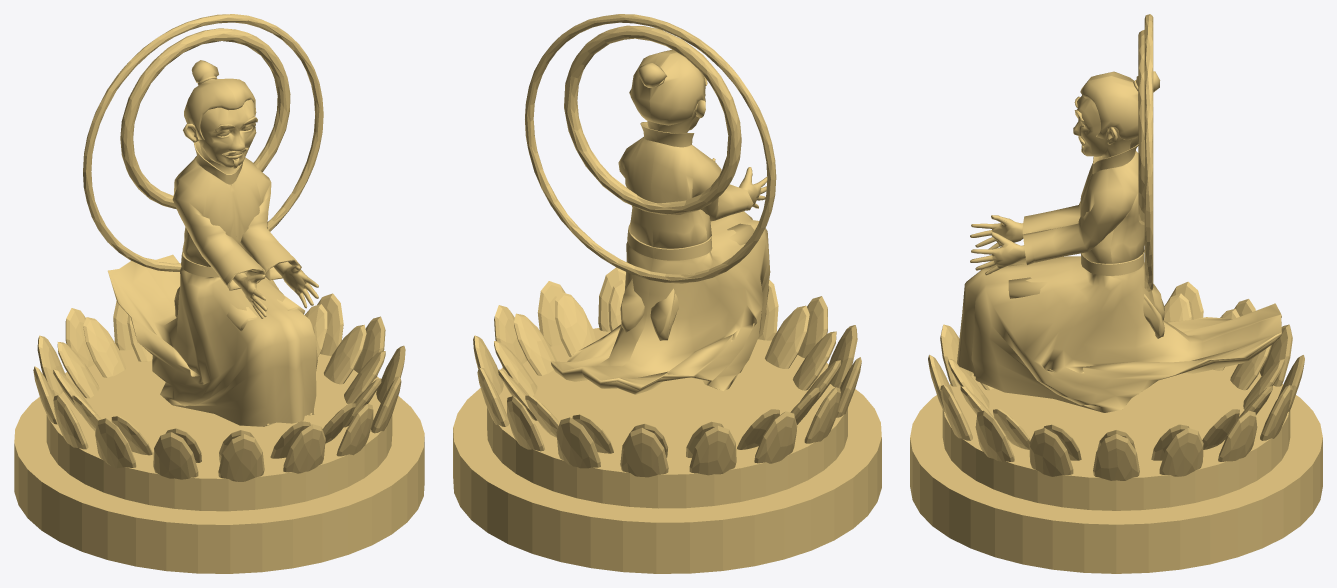
File: buddha.glb
3 renders of one model, left to right at view 1: azimuth 30°, elevation 25°; view 2: azimuth 150°, elevation 25°; view 3: azimuth 270°, elevation 25°, orthographic. The views are drawn at different scales.
Visible parts, largest first — view 1: Buddha; view 2: Buddha; view 3: Buddha.
Boxes of the visible parts, x1,y1,x2,y2 form: Buddha: (14, 14, 424, 573); Buddha: (453, 14, 881, 573); Buddha: (910, 14, 1322, 573).
Size of the model in its own units: 1.9 by 2.34 by 1.9.
